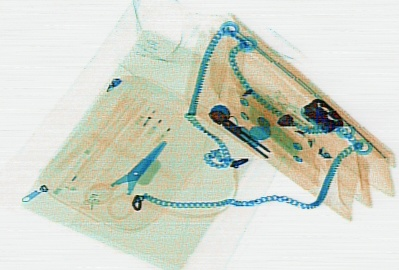scissors: (82, 138, 165, 219)
